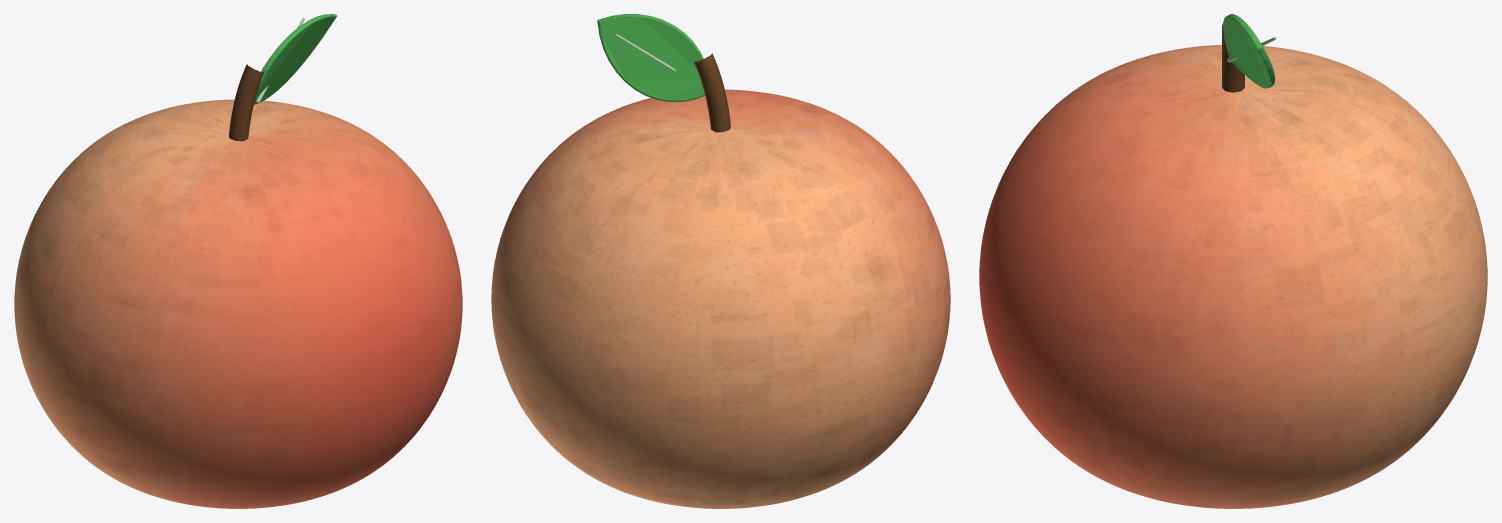
The model's file is peach.glb.
3 renders of one model, left to right at view 1: azimuth 30°, elevation 25°; view 2: azimuth 150°, elevation 25°; view 3: azimuth 270°, elevation 25°, orthographic. The views are drawn at different scales.
Size of the model in its own units: 0.1517 by 0.1601 by 0.1517.
Materials: 4 (1 with a texture image).
